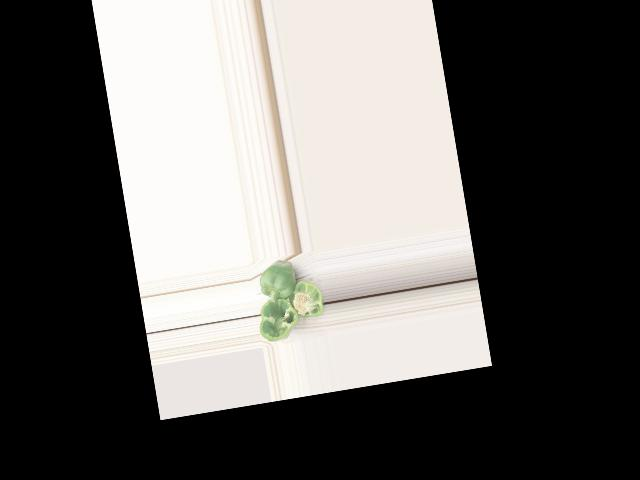bell_pepper: (286, 275, 326, 327)
